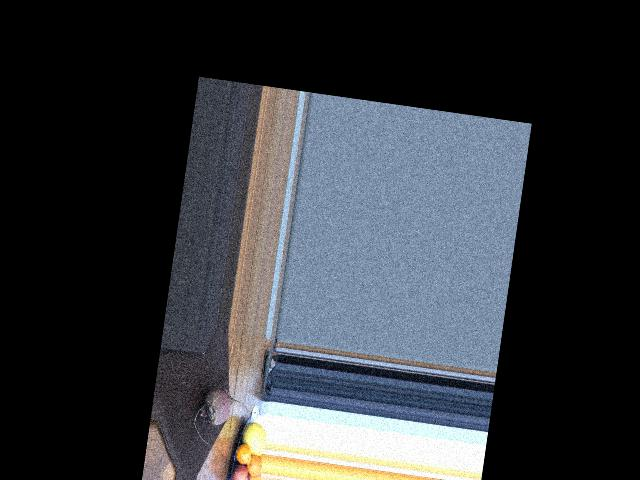beet: (191, 383, 250, 448)
